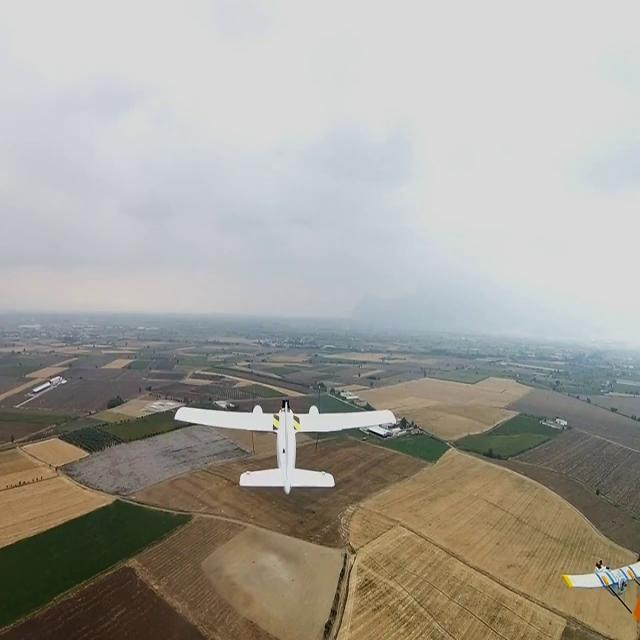iha: (166, 364, 404, 520), (588, 557, 608, 601)
